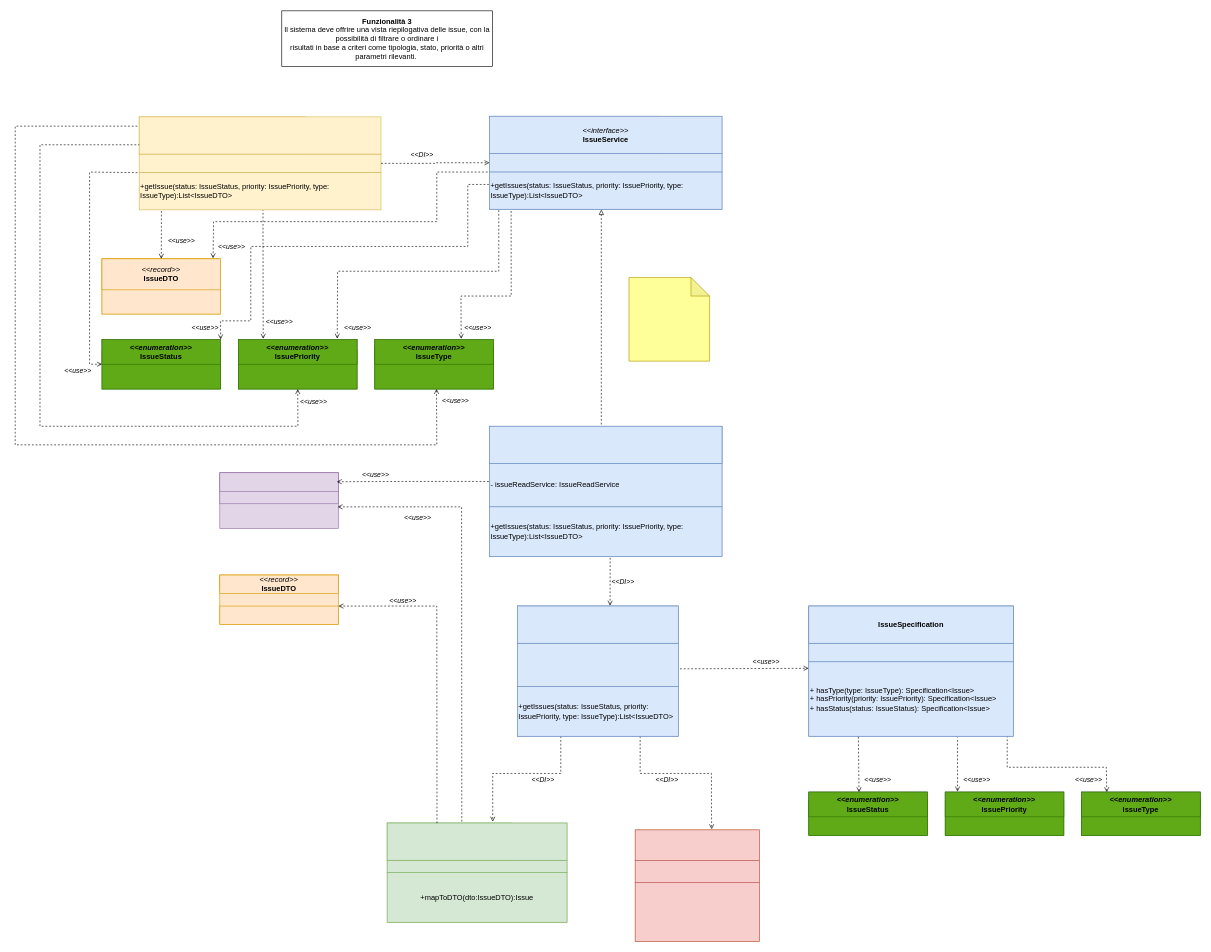
The diagram is 1211 pixels wide and 952 high, and some of its shapes have lost their labels. Each missing label, with the box of its shape:
- issueRepository: IssueRepository - issueMapper: IssueMapper: (517, 643, 679, 687)
-issueService:IssueService: (139, 153, 381, 173)
<<interface>> IssueRepository: (635, 829, 760, 860)
Issue: (219, 472, 338, 491)
IssueController: (139, 116, 381, 154)
IssueMapper: (387, 822, 567, 860)
IssueReadService: (517, 605, 679, 643)
IssueServiceImpl: (489, 426, 722, 463)
La notazione <<DI>> indica una Dependency Injection: (628, 277, 710, 361)
